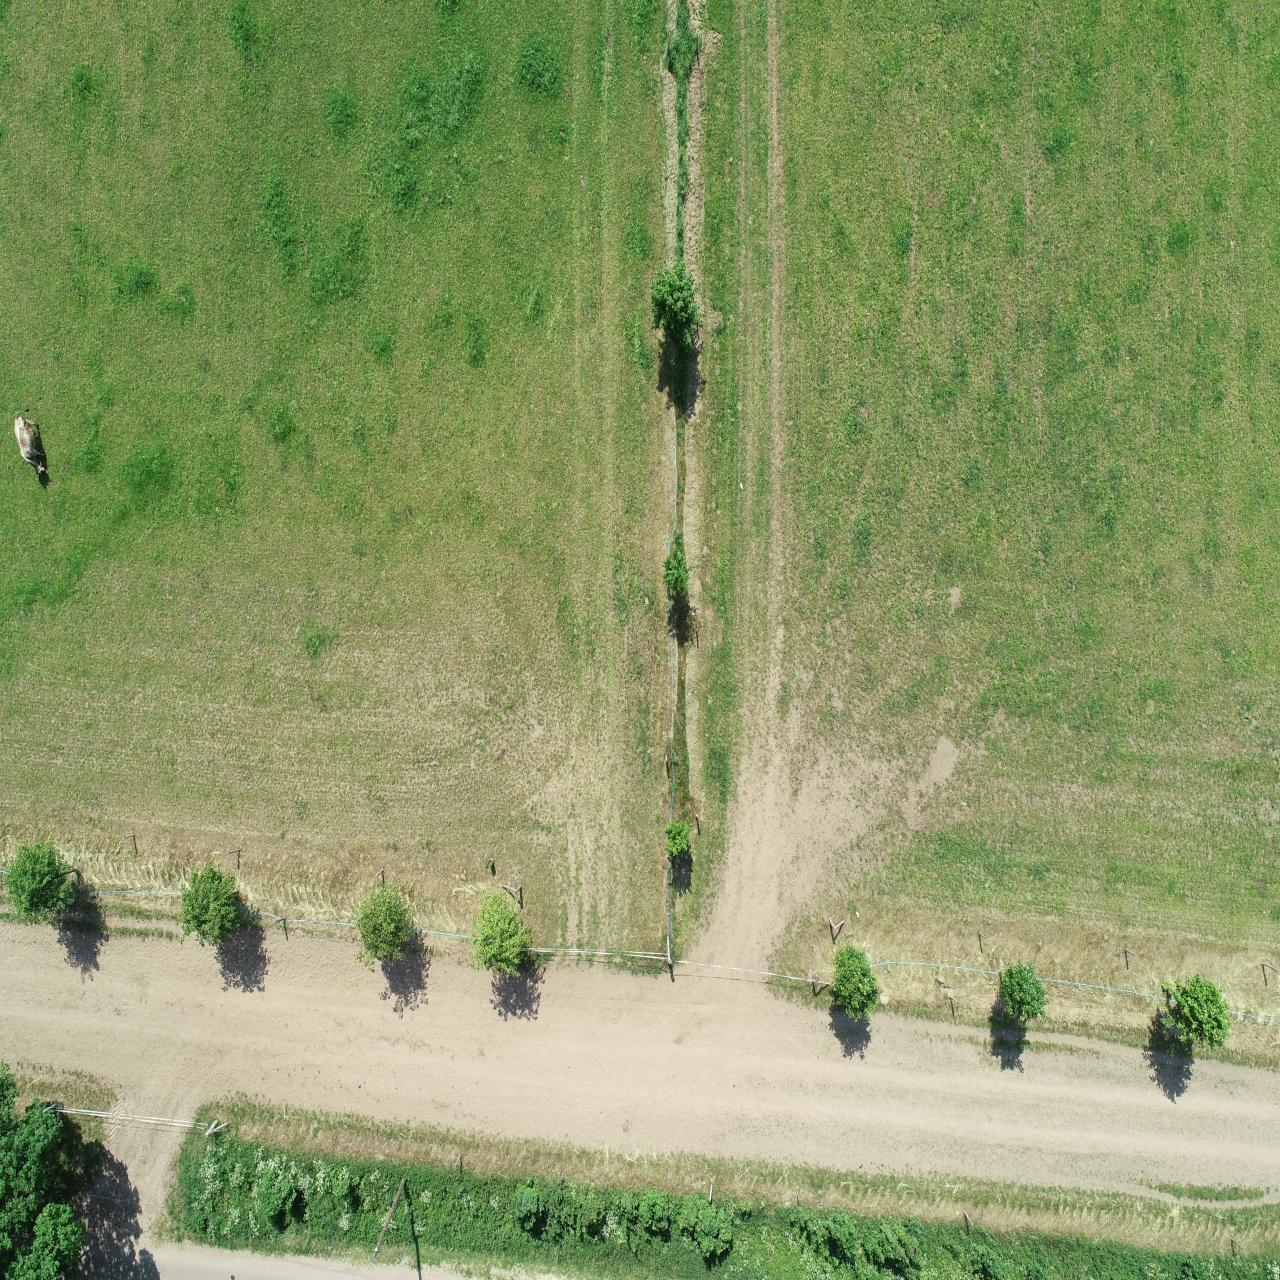cow: (11, 406, 50, 479)
